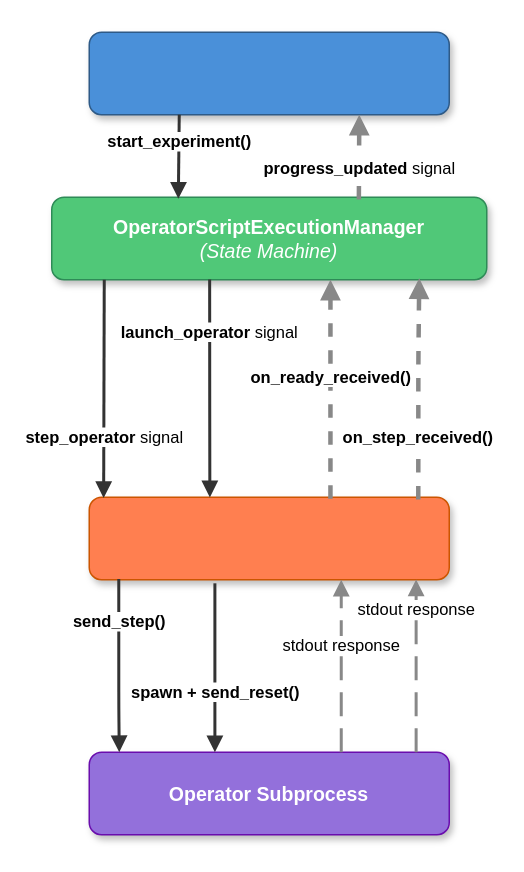
Some shapes in this 524 by 872 pixel diagram are drawn without their labels. The shapes that lost their labels are listed below. From the top down, each one's centre as x and y in pixels, then its label:
At (270,75): "ScriptExperimentWidget (UI)".
At (270,540): "MainWindow (Signal Router)".
